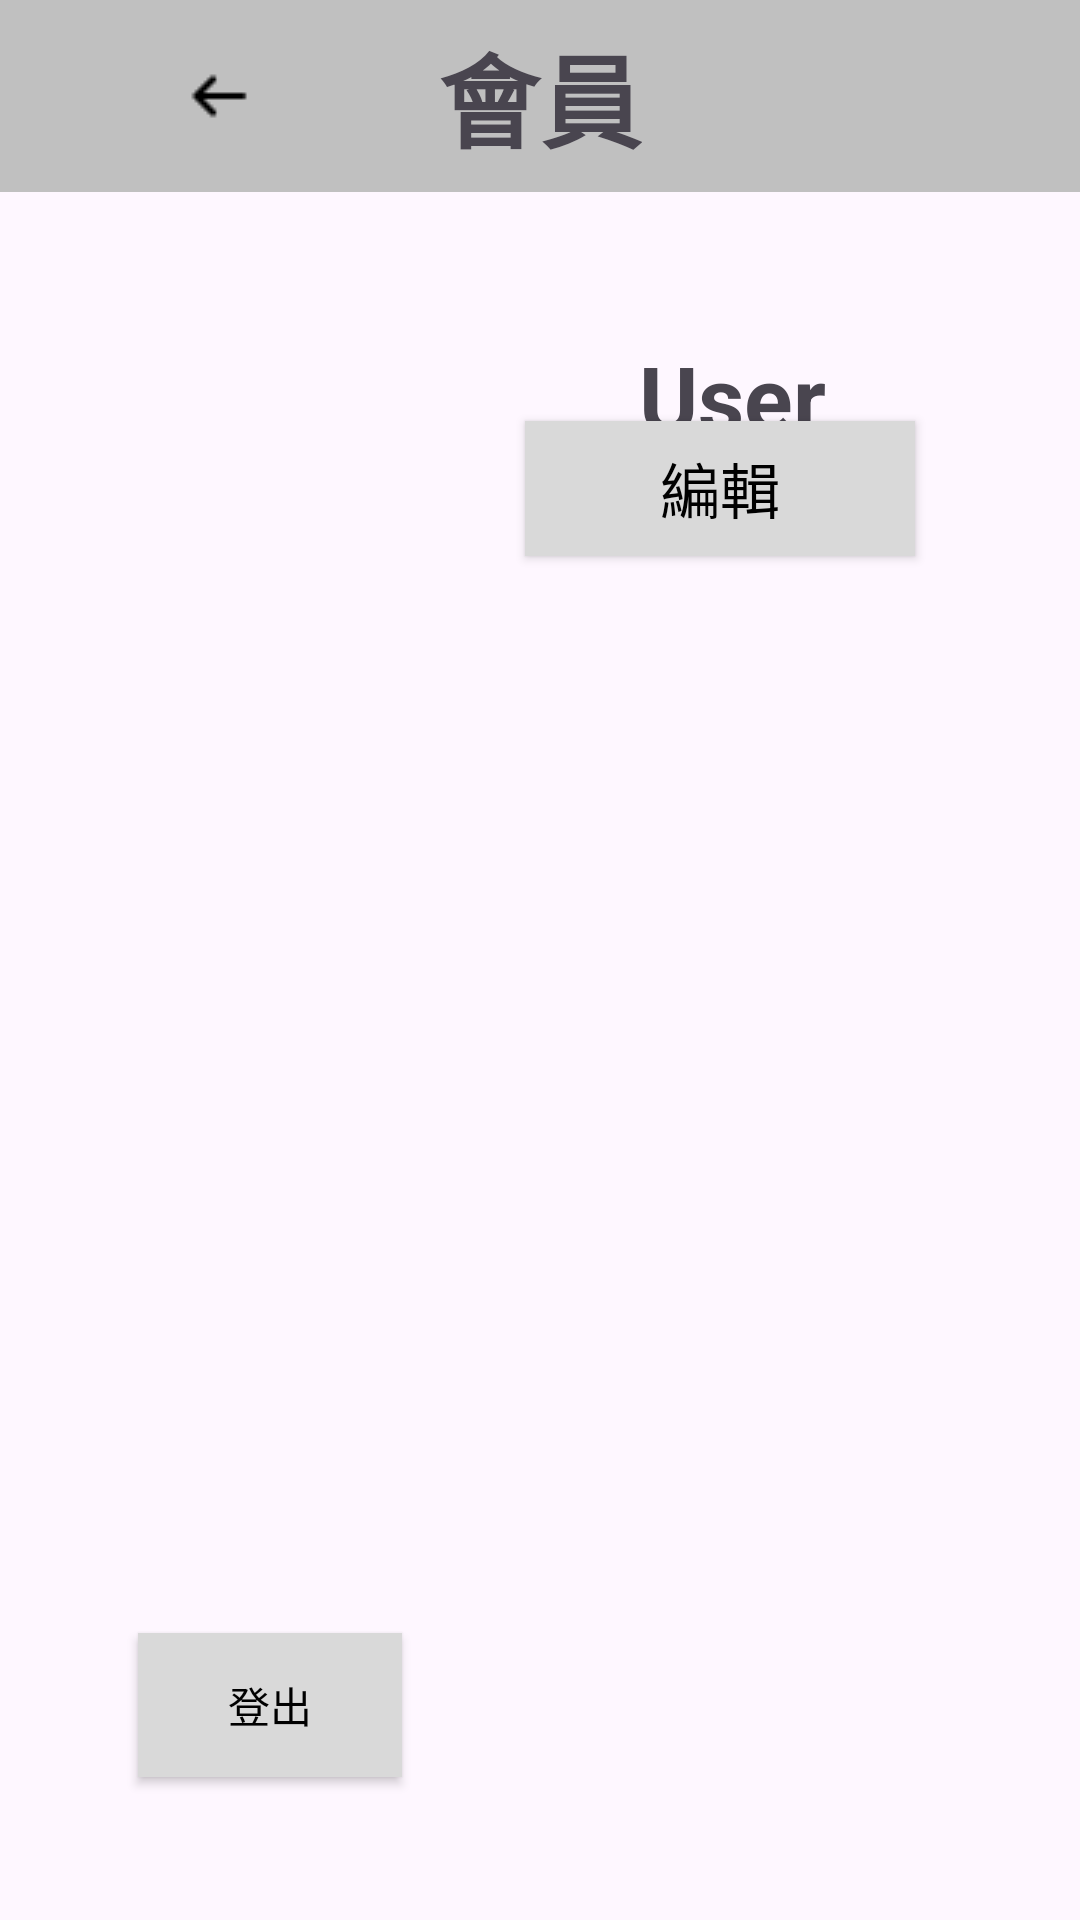

Screen size 1080 × 1920. Icon name, then its center in pixels as point (x, y):
arrow left: point (219, 96)
